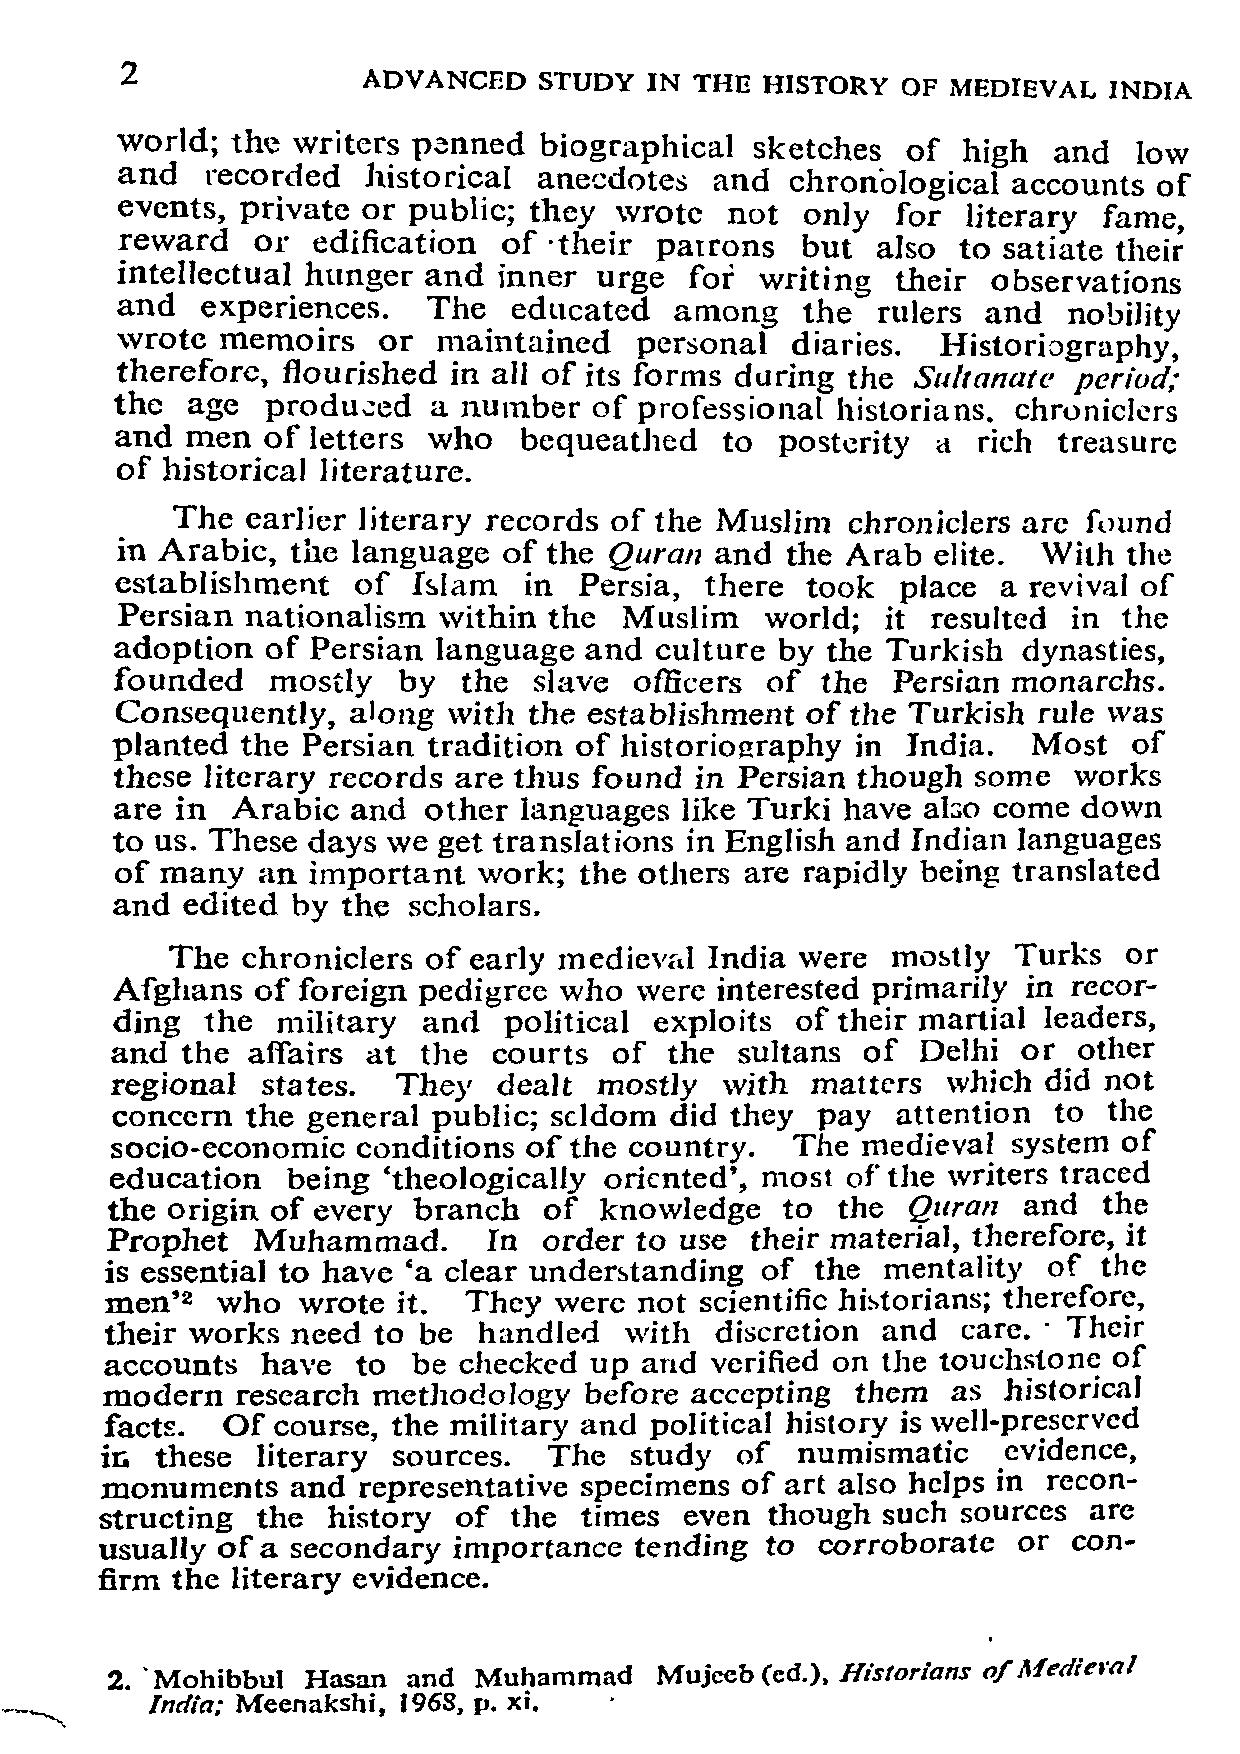content: (93, 126, 1190, 1596)
content_chapter: (360, 60, 1190, 102)
content_pagenumber: (117, 58, 141, 91)
